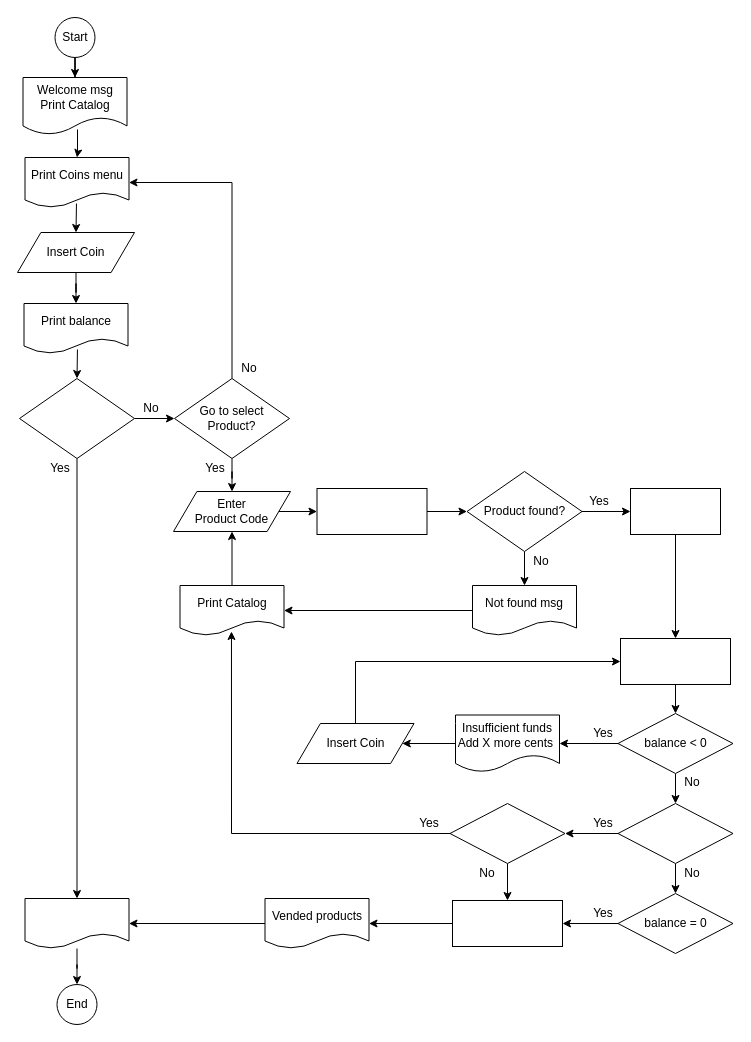
Some shapes in this 751 by 1042 pixel diagram are drawn without their labels. The centre of each missing label's shape, as x and y in pixels:
"Add Product to Cart" goes at point 675,511.
"Anything else?" goes at point 507,833.
"balance - total_cart" goes at point 675,661.
"balance > 0" goes at point 675,833.
"Cancel & Refund?" goes at point 76,418.
"Change returned" goes at point 76,923.
"Check out" goes at point 507,923.
"Search Product in Catalog" goes at point 371,511.
